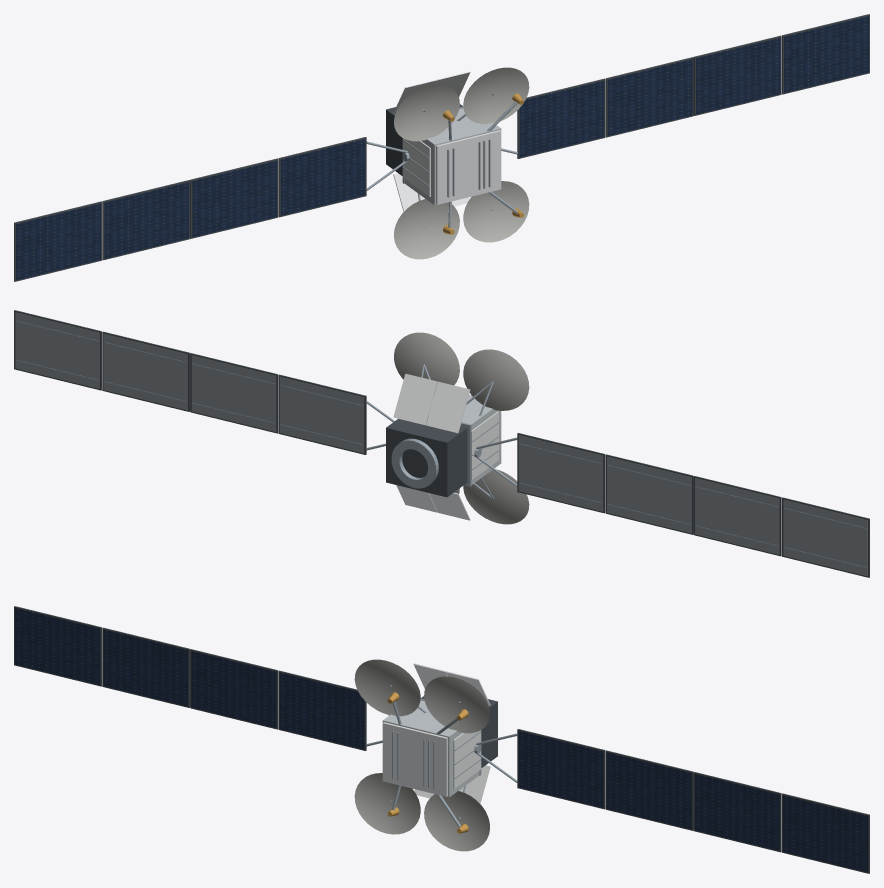
Rendered from lm2100-arabsat.glb.
The picture shows the model from 3 angles, top to bottom: view 1: azimuth 30°, elevation 25°; view 2: azimuth 150°, elevation 25°; view 3: azimuth 330°, elevation 25°; orthographic projection.
Visible parts, largest first — view 1: Solar cell panel (×8), Communications reflector (×4), Solar panel frame (×8), Earth-facing deck, Payload module, Radiator face, Service module; view 2: Rear array substrate (×8), Communications reflector (×3), Solar panel frame (×8), Deployed radiator leaf (×4), Service module, Launch adapter ring, Radiator face, Payload module; view 3: Solar cell panel (×8), Communications reflector (×4), Solar panel frame (×8), Earth-facing deck, Payload module, Radiator face, Service module.
Boxes of the visible parts, x1,y1,x2,y2 form: Solar cell panel (×8): (16,16,868,280); Communications reflector (×4): (394,67,529,259); Solar panel frame (×8): (14,14,869,281); Earth-facing deck: (436,130,501,204); Payload module: (404,108,501,205); Radiator face: (402,138,430,196); Service module: (386,104,462,175); Rear array substrate (×8): (15,312,867,576); Communications reflector (×3): (394,332,529,524); Solar panel frame (×8): (14,310,869,577); Deployed radiator leaf (×4): (393,373,470,520); Service module: (386,418,467,497); Launch adapter ring: (391,438,438,488); Radiator face: (471,411,498,479); Payload module: (429,395,501,484); Solar cell panel (×8): (15,608,867,872); Communications reflector (×4): (354,659,489,851); Solar panel frame (×8): (14,606,869,873); Earth-facing deck: (382,722,447,796); Payload module: (382,700,479,797); Radiator face: (453,730,481,788); Service module: (421,696,497,767).
Bounding box in the file's own units: 30.77 × 5.94 × 3.71.
Materials: 8 (1 with a texture image).
